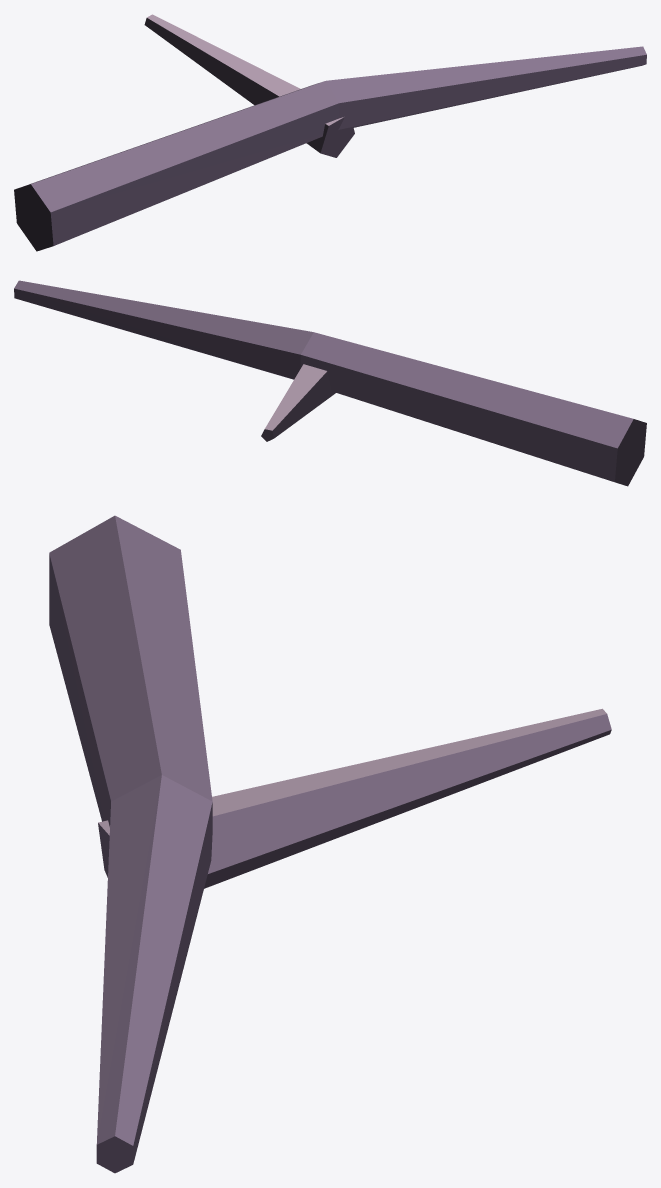
Rendered from TW_PROP_BRANCH_FORK_A_LOD0.glb.
3 renders of one model, top to bottom at view 1: azimuth 30°, elevation 25°; view 2: azimuth 150°, elevation 25°; view 3: azimuth 270°, elevation 25°, orthographic. The views are drawn at different scales.
Visible parts, largest first — view 1: TW_PROP_BRANCH_FORK_A_LOD0; view 2: TW_PROP_BRANCH_FORK_A_LOD0; view 3: TW_PROP_BRANCH_FORK_A_LOD0.
Part boxes in pixels (x1,y1,x2,y2): TW_PROP_BRANCH_FORK_A_LOD0: (14,14,646,251); TW_PROP_BRANCH_FORK_A_LOD0: (14,280,646,486); TW_PROP_BRANCH_FORK_A_LOD0: (49,515,611,1173).
Bounding box in the file's own units: 1.21 × 0.1675 × 0.4801.
Materials: 1 (1 with a texture image).
